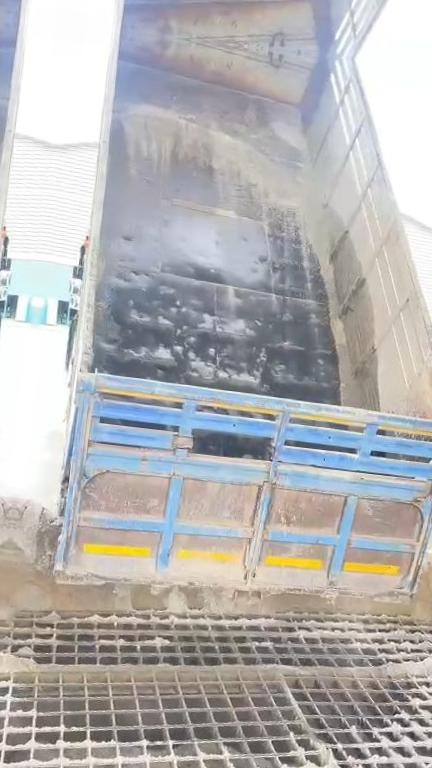sand: (124, 105, 359, 405), (2, 498, 408, 615), (0, 650, 432, 682), (315, 734, 384, 768), (409, 552, 432, 625), (273, 121, 301, 148)
